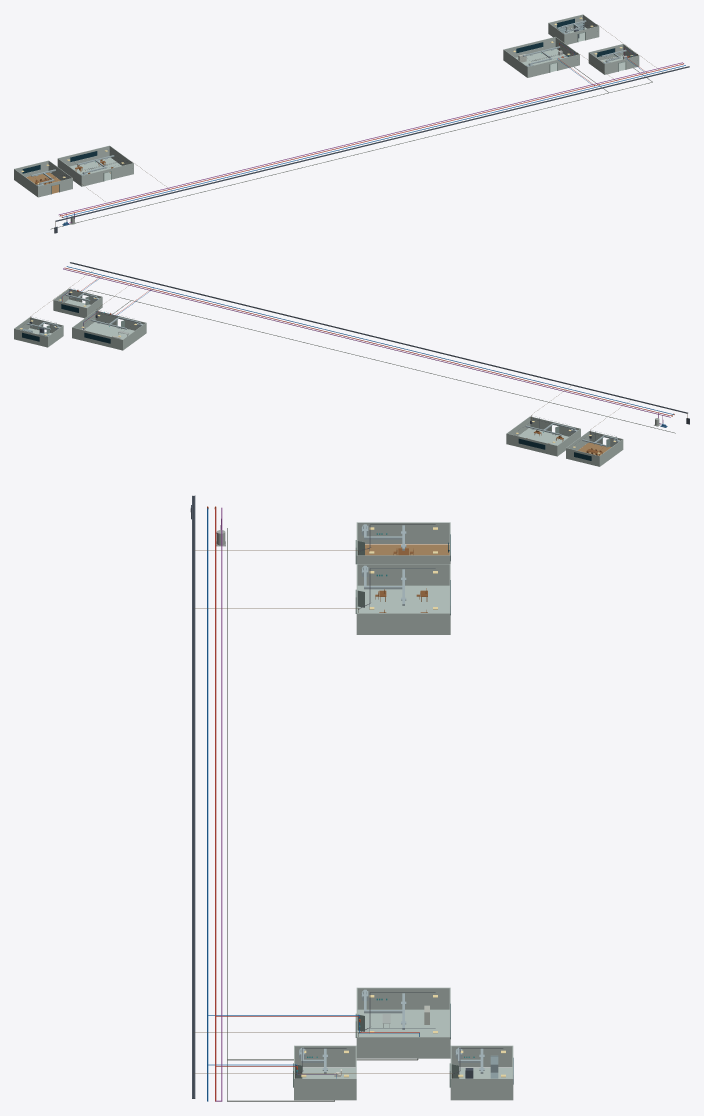
3 renders of one model, top to bottom at view 1: azimuth 30°, elevation 25°; view 2: azimuth 150°, elevation 25°; view 3: azimuth 270°, elevation 25°, orthographic. The views are drawn at different scales.
Parts seen in each view (by area): view 1: V4_HQ_R03_WALLS, V4_HQ_R01_WALLS, V4_HQ_TRAY0, V4_HQ_R02_WALLS, V4_HQ_R05_WALLS, V4_HQ_MAIN_HOT, V4_HQ_MAIN_COLD, V4_HQ_MAIN_HOT_RETURN, V4_HQ_R04_WALLS, V4_HQ_R03_DRAIN, V4_HQ_R01_FLOOR_ZONE, V4_HQ_R03_FLOOR_ZONE; view 2: V4_HQ_R03_WALLS, V4_HQ_R01_WALLS, V4_HQ_TRAY0, V4_HQ_R02_WALLS, V4_HQ_R04_WALLS, V4_HQ_MAIN_HOT_RETURN, V4_HQ_MAIN_COLD, V4_HQ_MAIN_HOT, V4_HQ_R05_WALLS, V4_HQ_R05_DRAIN, V4_HQ_R01_FLOOR_ZONE, V4_HQ_R03_FLOOR_ZONE; view 3: V4_HQ_R03_WALLS, V4_HQ_R01_WALLS, V4_HQ_R02_WALLS, V4_HQ_R05_WALLS, V4_HQ_R04_WALLS, V4_HQ_TRAY0, V4_HQ_R01_FLOOR_ZONE, V4_HQ_R03_FLOOR_ZONE, V4_HQ_MAIN_HOT_RETURN, V4_HQ_MAIN_COLD, V4_HQ_MAIN_HOT, V4_HQ_R02_FLOOR_ZONE.
Part boxes in pixels (x1,y1,x2,y2): V4_HQ_R03_WALLS: (503, 37, 579, 77); V4_HQ_R01_WALLS: (57, 145, 133, 186); V4_HQ_TRAY0: (55, 66, 689, 221); V4_HQ_R02_WALLS: (14, 160, 72, 197); V4_HQ_R05_WALLS: (588, 44, 639, 74); V4_HQ_MAIN_HOT: (61, 63, 683, 215); V4_HQ_MAIN_COLD: (62, 65, 685, 217); V4_HQ_MAIN_HOT_RETURN: (59, 62, 683, 214); V4_HQ_R04_WALLS: (548, 14, 599, 44); V4_HQ_R03_DRAIN: (51, 67, 609, 228); V4_HQ_R01_FLOOR_ZONE: (70, 157, 121, 180); V4_HQ_R03_FLOOR_ZONE: (515, 48, 567, 72); V4_HQ_R03_WALLS: (72, 310, 146, 350); V4_HQ_R01_WALLS: (506, 416, 580, 456); V4_HQ_TRAY0: (70, 262, 687, 413); V4_HQ_R02_WALLS: (566, 431, 623, 466); V4_HQ_R04_WALLS: (14, 317, 63, 347); V4_HQ_MAIN_HOT_RETURN: (63, 268, 670, 417); V4_HQ_MAIN_COLD: (66, 266, 673, 414); V4_HQ_MAIN_HOT: (65, 267, 671, 416); V4_HQ_R05_WALLS: (53, 288, 102, 318); V4_HQ_R05_DRAIN: (85, 290, 675, 433); V4_HQ_R01_FLOOR_ZONE: (518, 428, 568, 445); V4_HQ_R03_FLOOR_ZONE: (85, 322, 134, 339); V4_HQ_R03_WALLS: (356, 987, 450, 1058); V4_HQ_R01_WALLS: (356, 564, 450, 634); V4_HQ_R02_WALLS: (356, 522, 450, 563); V4_HQ_R05_WALLS: (294, 1045, 356, 1100); V4_HQ_R04_WALLS: (450, 1045, 513, 1100); V4_HQ_TRAY0: (192, 495, 195, 1098); V4_HQ_R01_FLOOR_ZONE: (357, 585, 449, 612); V4_HQ_R03_FLOOR_ZONE: (357, 1009, 449, 1036); V4_HQ_MAIN_HOT_RETURN: (215, 507, 222, 1101); V4_HQ_MAIN_COLD: (207, 508, 208, 1101); V4_HQ_MAIN_HOT: (215, 508, 216, 1101); V4_HQ_R02_FLOOR_ZONE: (365, 544, 449, 555).
Size of the model in its own units: 183 by 4.26 by 41.23.
